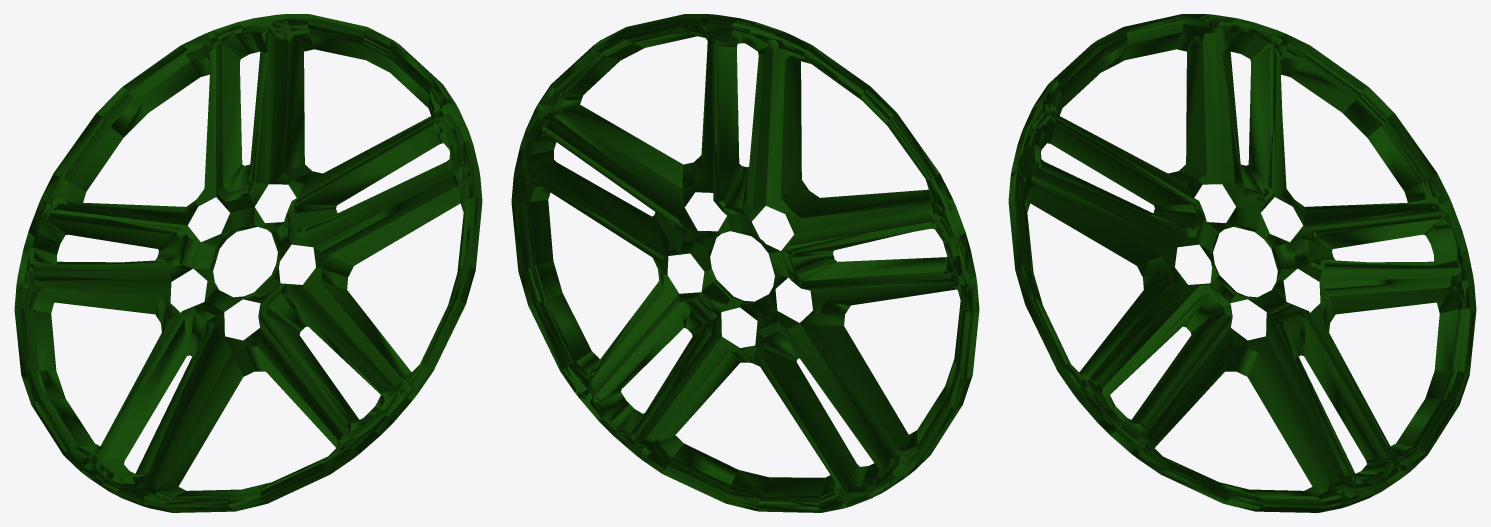
File: disk_otdelno.fbx
3 views of the same model, side by side, from view 1: azimuth 30°, elevation 25°; view 2: azimuth 150°, elevation 25°; view 3: azimuth 330°, elevation 25° (orthographic).
Visible parts, largest first — view 1: disk; view 2: disk; view 3: disk.
Boxes of the visible parts, x1,y1,x2,y2 form: disk: (14, 14, 482, 512); disk: (511, 14, 979, 512); disk: (1008, 14, 1476, 512).
Size of the model in its own units: 5.28 by 5.27 by 0.4262.
